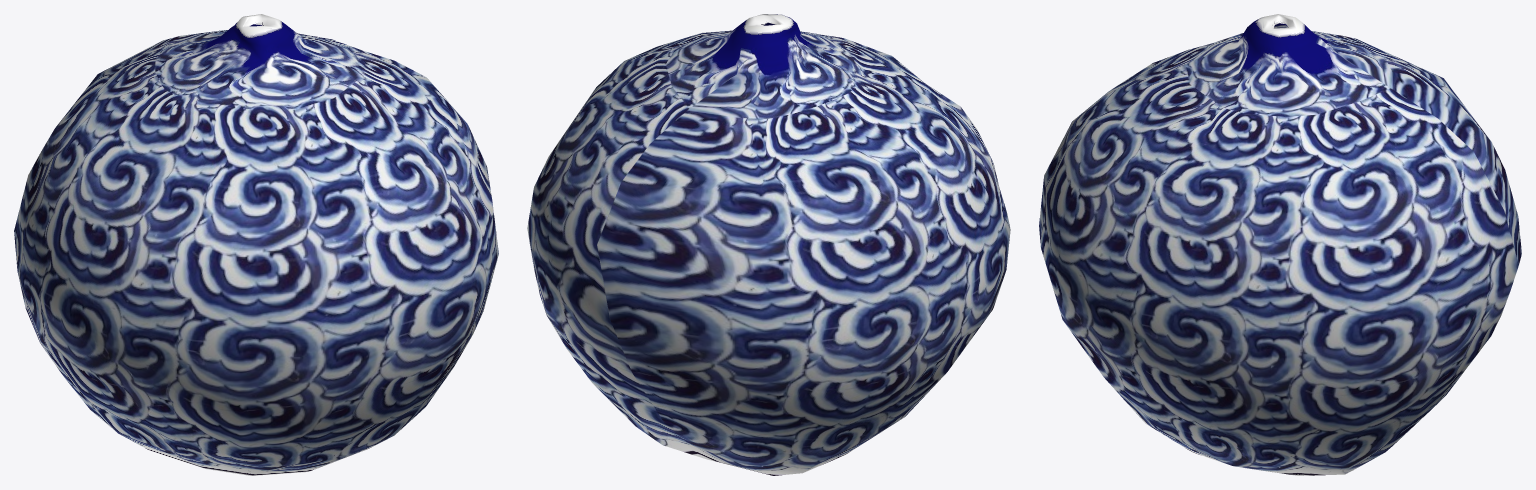
The model's file is Vase.003.fbx.
The picture shows the model from 3 angles, left to right: view 1: azimuth 30°, elevation 25°; view 2: azimuth 150°, elevation 25°; view 3: azimuth 270°, elevation 25°; orthographic projection. The views are drawn at different scales.
Visible parts, largest first — view 1: Vase.003; view 2: Vase.003; view 3: Vase.003.
Boxes of the visible parts, box(x1,y1,x2,y2) form: Vase.003: box(14, 14, 498, 475); Vase.003: box(527, 14, 1010, 475); Vase.003: box(1039, 14, 1521, 475).
Bounding box in the file's own units: 21.09 × 20.75 × 21.48.
1 material, 1 textured.
